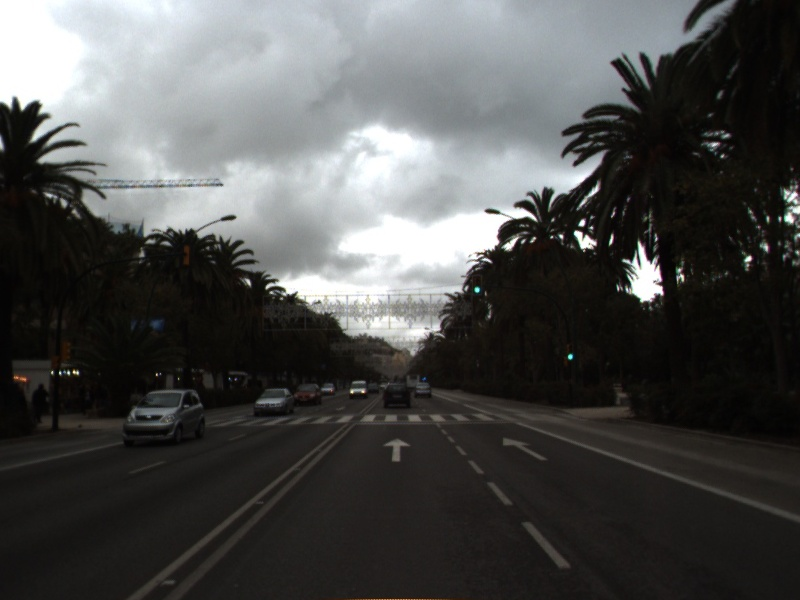STRAIGHT: (501, 435, 550, 463), (381, 435, 414, 464)
